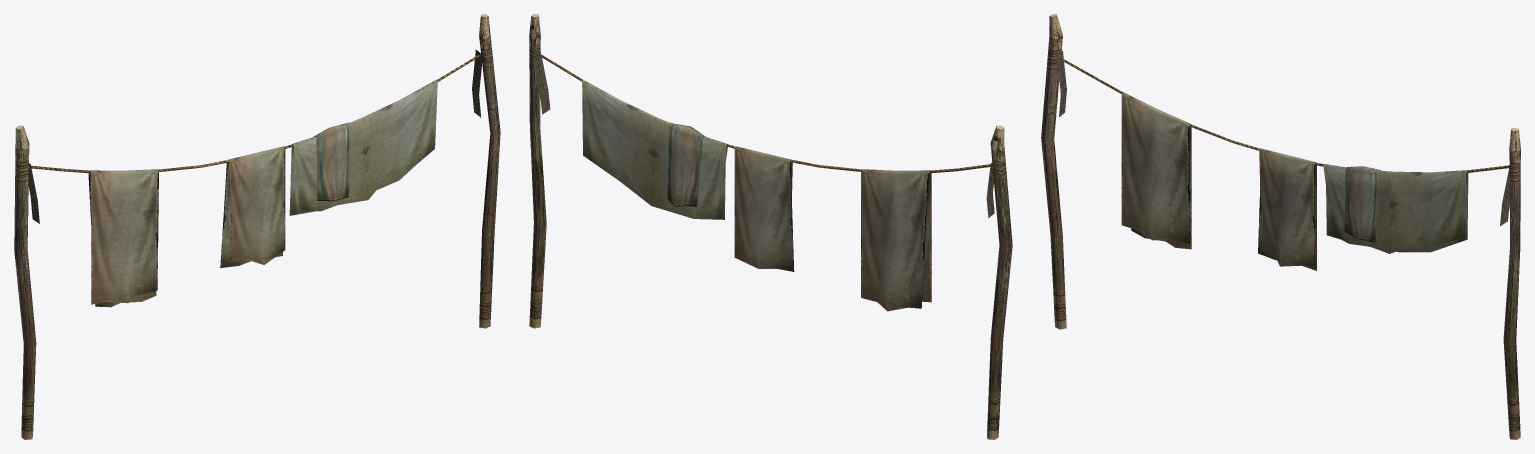
The model's file is kiosk0.fbx.
3 renders of one model, left to right at view 1: azimuth 30°, elevation 25°; view 2: azimuth 150°, elevation 25°; view 3: azimuth 330°, elevation 25°, orthographic.
Parts seen in each view (by area): view 1: LV_M5_Port_LaundryPole01_SM_SVR; view 2: LV_M5_Port_LaundryPole01_SM_SVR; view 3: LV_M5_Port_LaundryPole01_SM_SVR.
Part boxes in pixels (bbox=[...]): LV_M5_Port_LaundryPole01_SM_SVR: bbox=[14, 14, 500, 439]; LV_M5_Port_LaundryPole01_SM_SVR: bbox=[529, 14, 1012, 439]; LV_M5_Port_LaundryPole01_SM_SVR: bbox=[1041, 14, 1520, 439].
Size of the model in its own units: 1.88 by 1.17 by 0.1032.
Materials: 1 (1 with a texture image).
